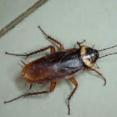cockroach: (21, 40, 101, 96)
